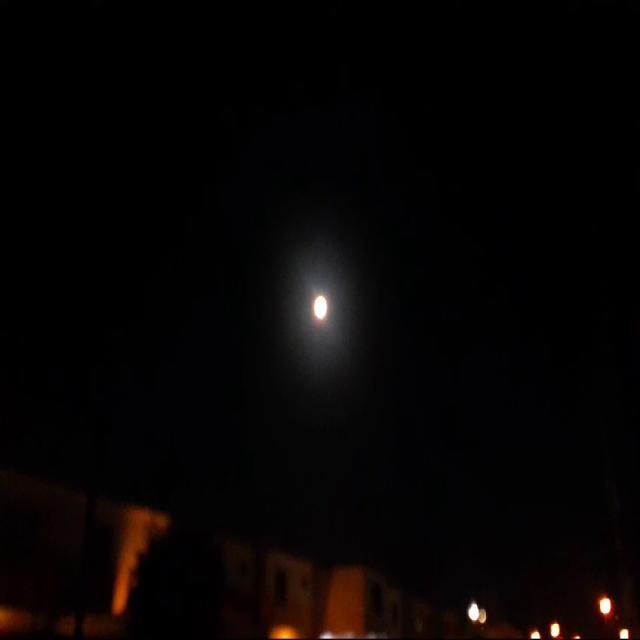moon: (306, 295, 324, 328)
